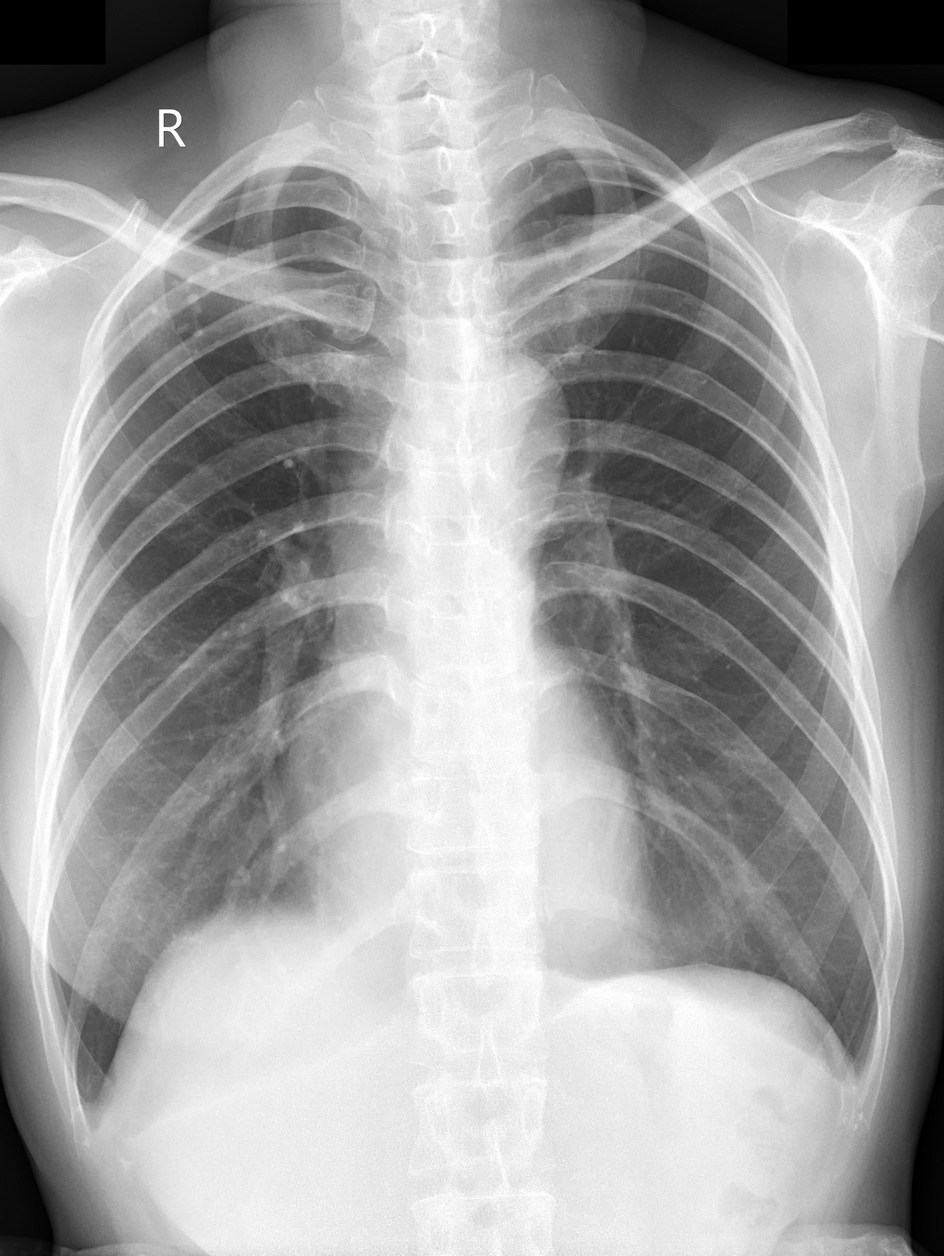Pleural thickening: (62, 1073, 125, 1146), (835, 1037, 877, 1107)
Pulmonary fibrosis: (147, 272, 208, 342)
